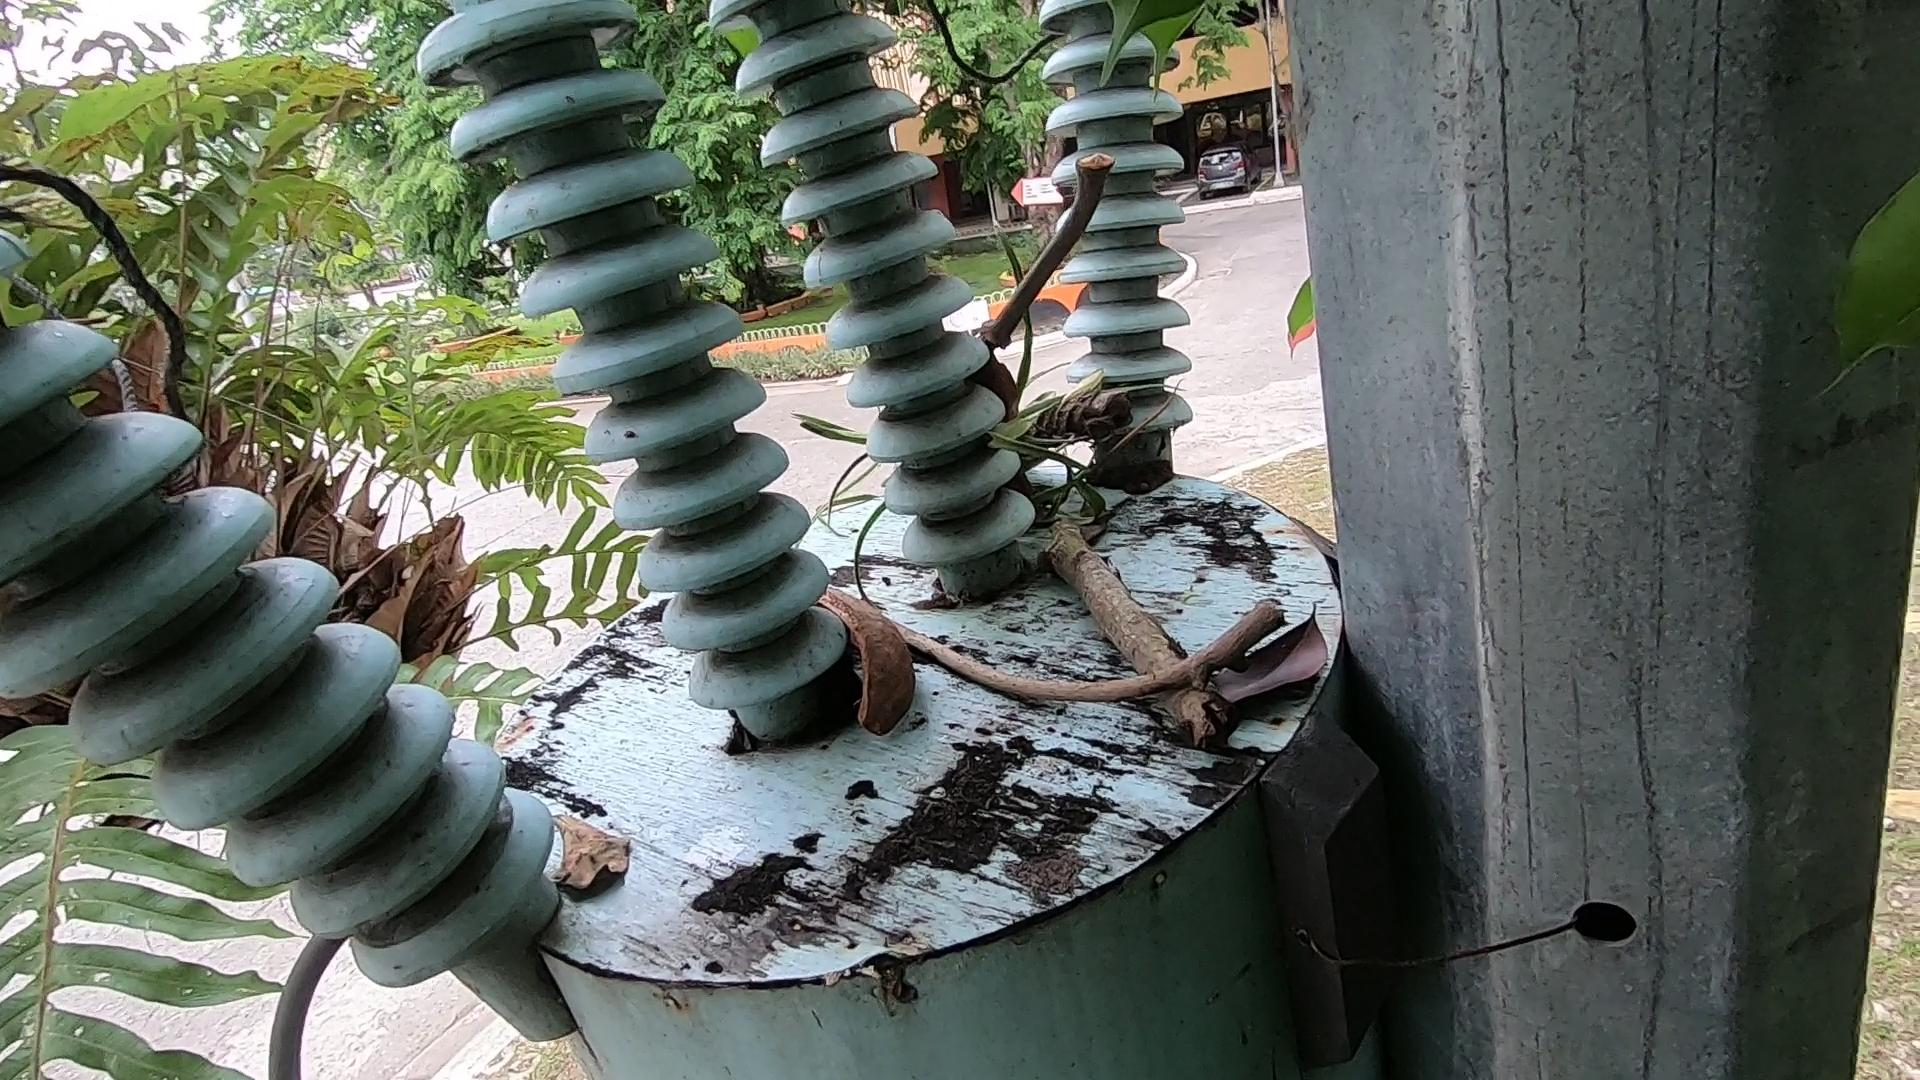branch with leaves: (878, 257, 1218, 775)
leaf: (504, 786, 695, 930), (1208, 609, 1385, 752)
mahogany fruit: (956, 294, 1110, 531), (779, 564, 924, 753)
tree branch: (778, 534, 1218, 698), (945, 146, 1149, 342)
